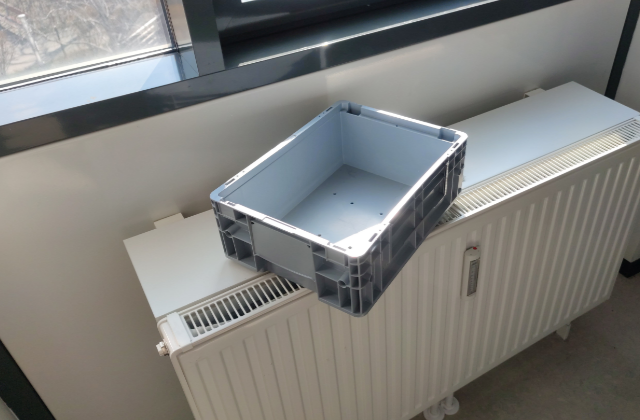Box: (208, 100, 470, 317)
